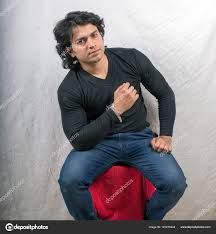Indian_Male: (56, 13, 110, 63)
